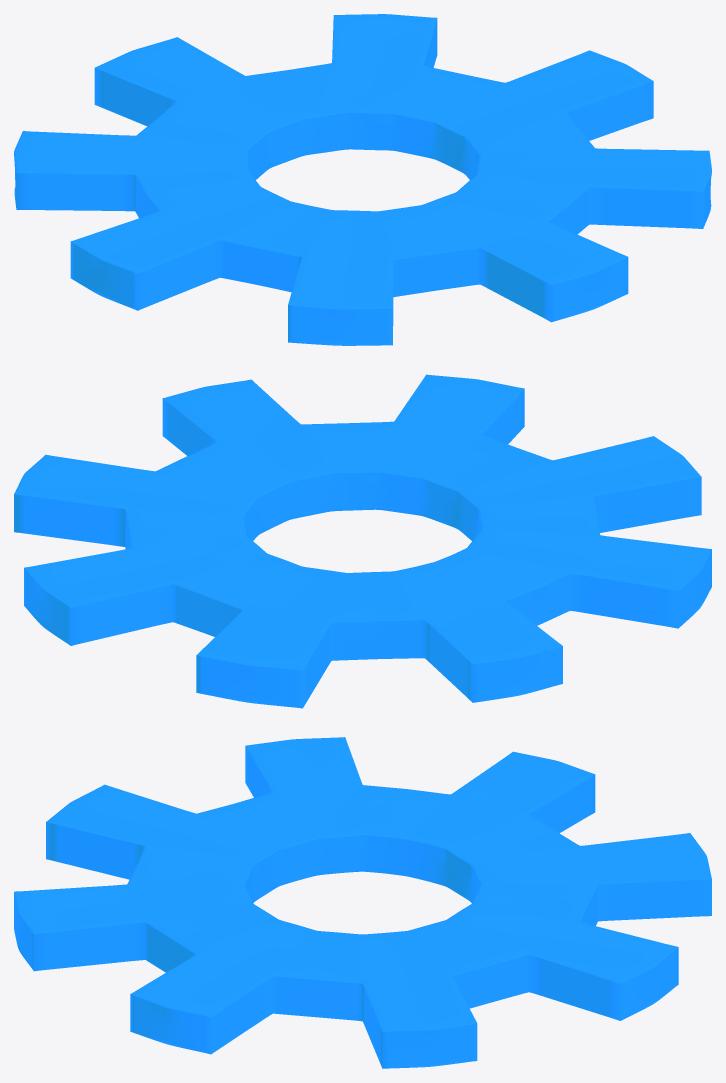
Rendered from Zahnrad.fbx.
3 views of the same model, one above another, from view 1: azimuth 30°, elevation 25°; view 2: azimuth 150°, elevation 25°; view 3: azimuth 270°, elevation 25° (orthographic). The views are drawn at different scales.
Parts seen in each view (by area): view 1: Zahnrad; view 2: Zahnrad; view 3: Zahnrad.
Part boxes in pixels (x1,y1,x2,y2): Zahnrad: (14,14,711,345); Zahnrad: (14,374,711,708); Zahnrad: (14,737,711,1068).
Size of the model in its own units: 150 by 9.09 by 151.
